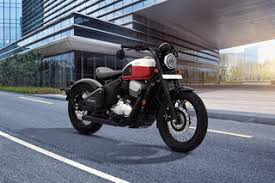motorcycle: (61, 42, 210, 154)
